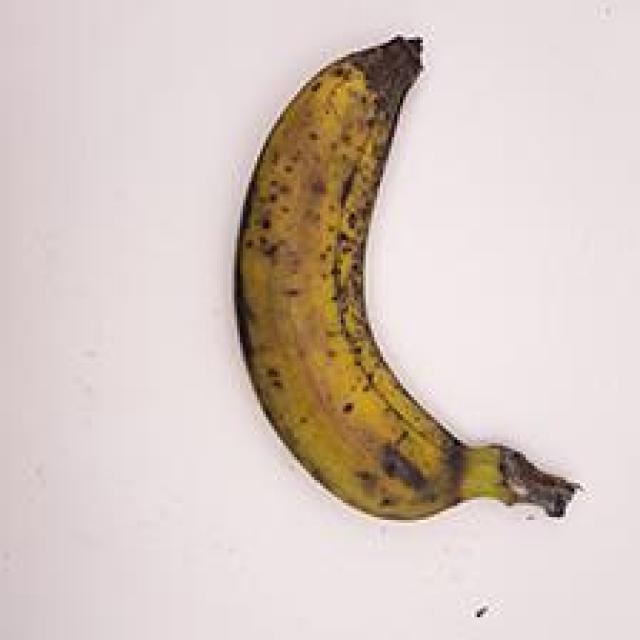Overripe: (217, 28, 586, 542)
